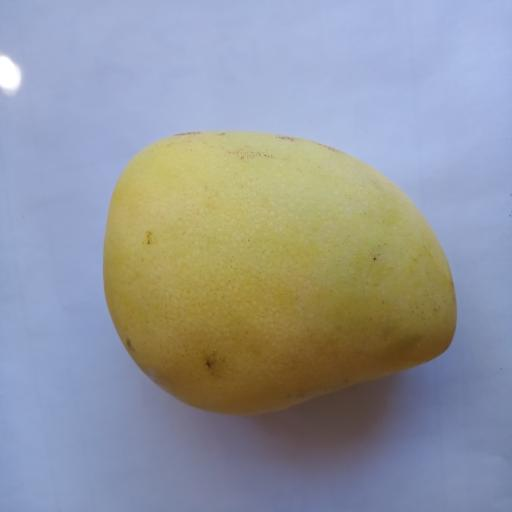mango-ripe: (83, 89, 483, 438)
